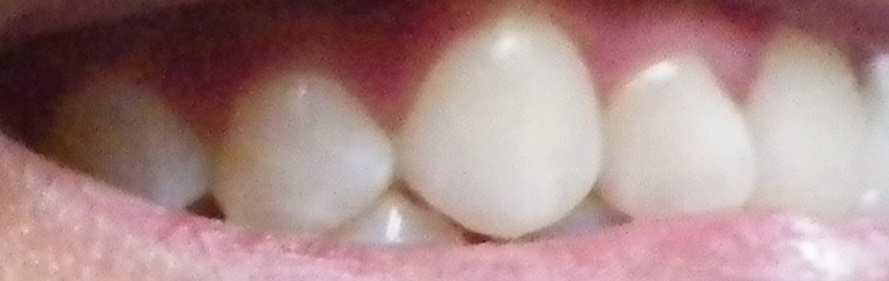boca: (46, 20, 889, 236)
